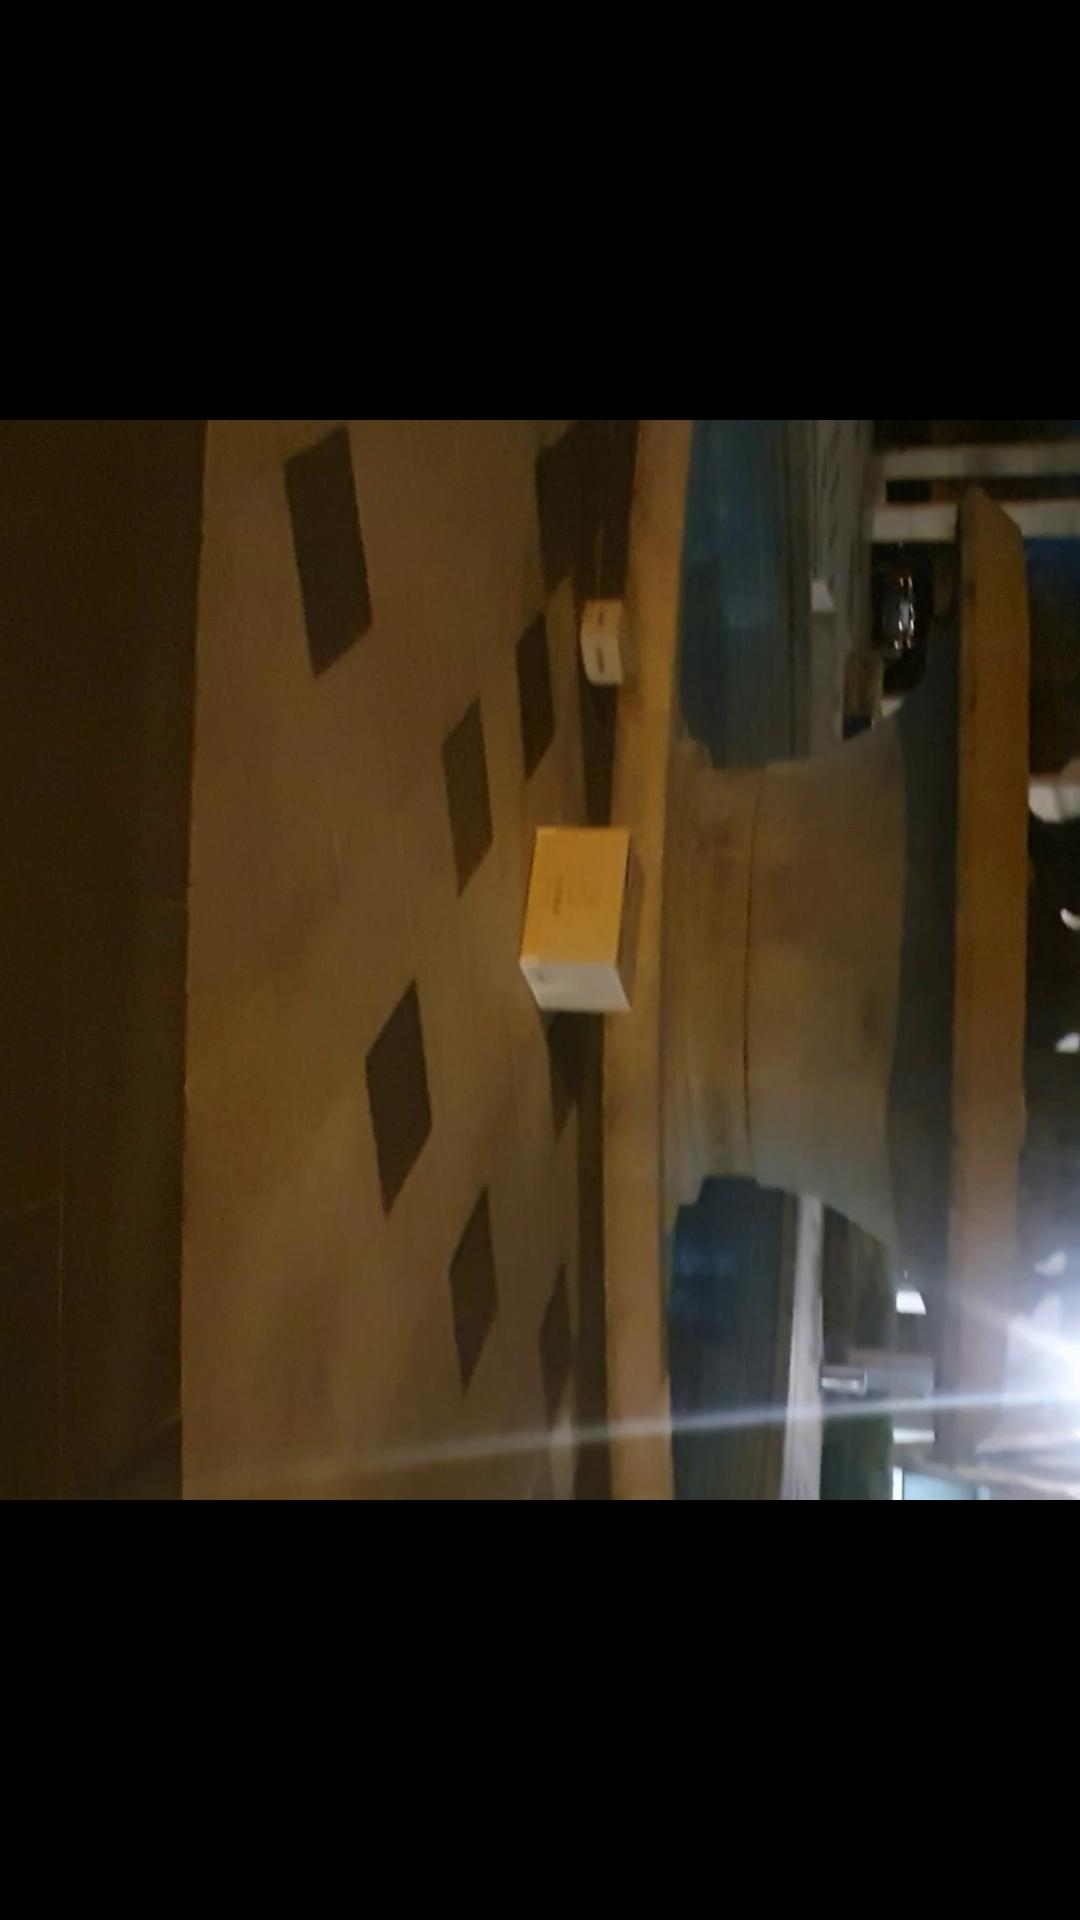Box: (508, 806, 655, 1025), (570, 576, 647, 698)
